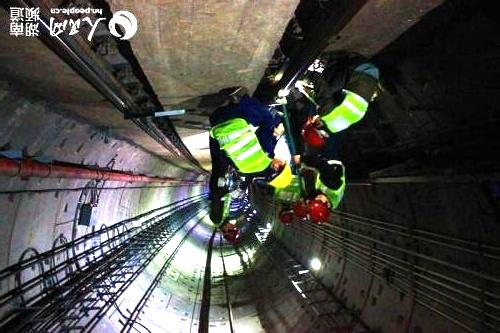helmet: (263, 157, 293, 189), (303, 119, 331, 148), (306, 194, 331, 223), (277, 201, 295, 226), (221, 222, 241, 242), (294, 197, 310, 222)
